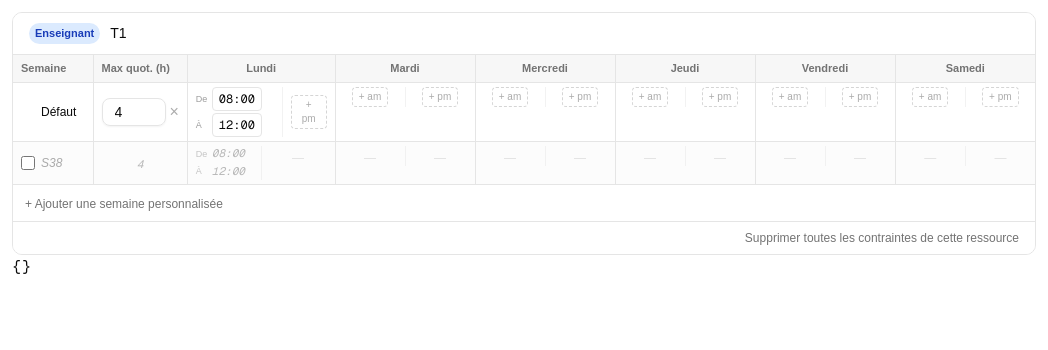
Test: ResourceConstraintEditor — colonne Max quot. › une semaine qui n'a QU'une limite reste visible dans le tableau
The image size is (1048, 350).
Expected: the text "S99" is not shown
Click the button "+ Ajouter une semaine personnalisée" at [124, 204], box [25,196,223,212]
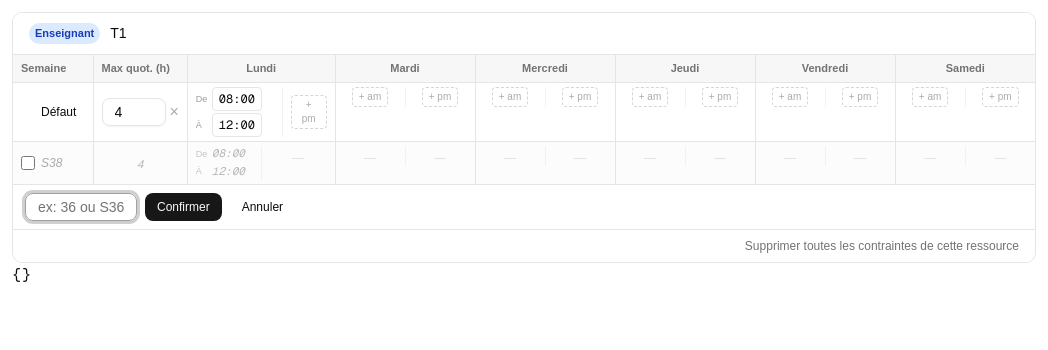
Type "99" into the field with placeholder "ex: 36 ou S36" at [81, 207], box [25,193,137,221]
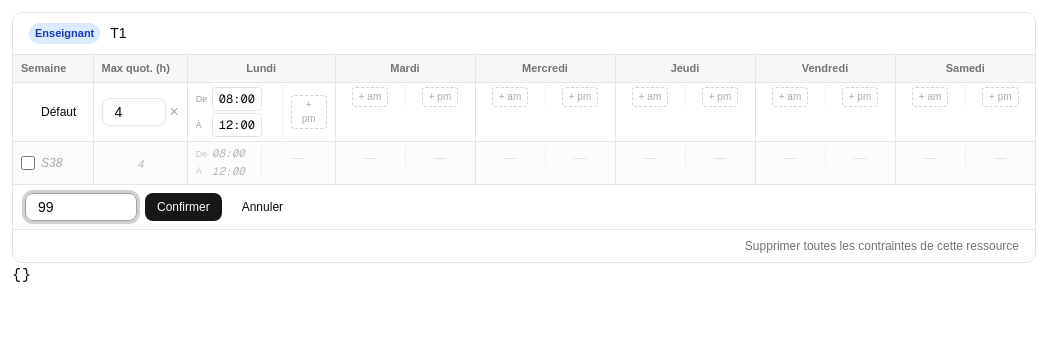
Click the button "Confirmer" at [183, 207], box [145,193,222,221]
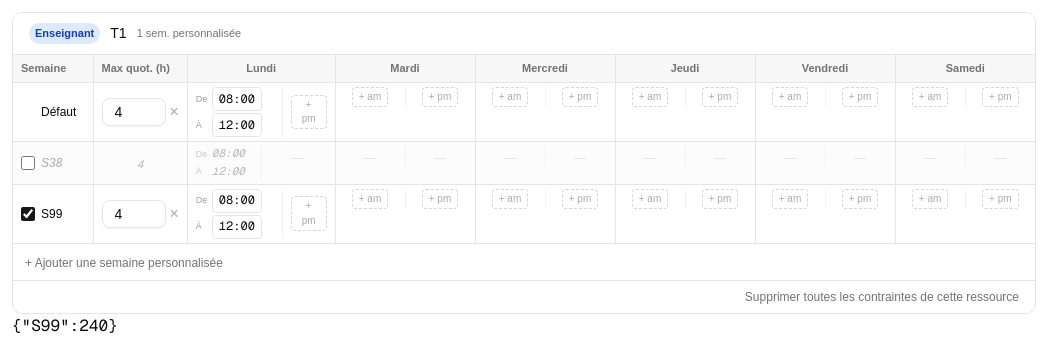
Now the text "S99" is shown, box [41,206,62,222]
